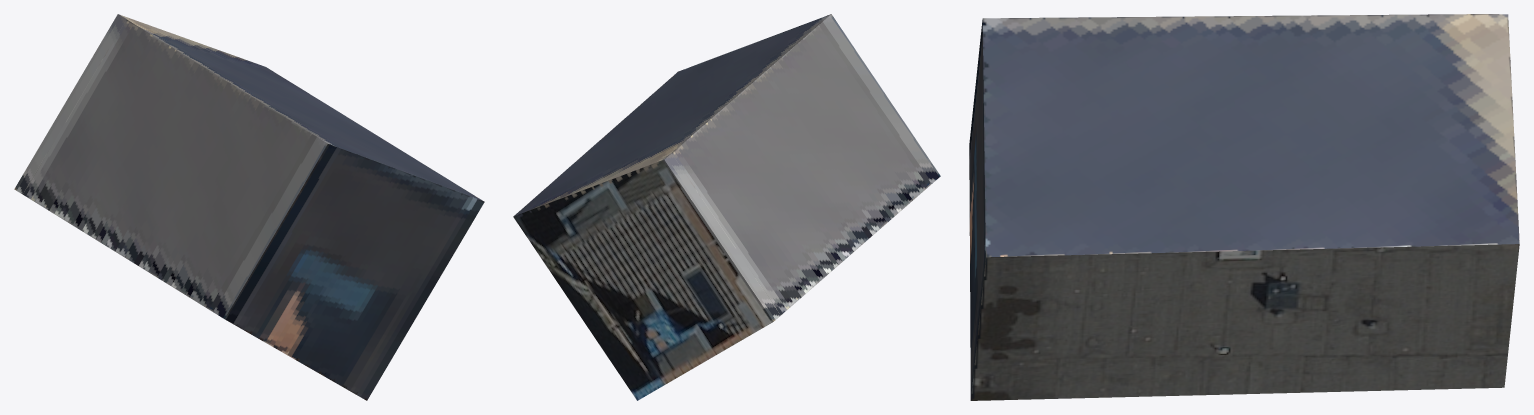
The picture shows the model from 3 angles, left to right: view 1: azimuth 30°, elevation 25°; view 2: azimuth 150°, elevation 25°; view 3: azimuth 270°, elevation 25°; orthographic projection. The views are drawn at different scales.
Parts seen in each view (by area): view 1: BAG_0599100000670795 (×2); view 2: BAG_0599100000670795 (×2); view 3: BAG_0599100000670795 (×2).
Part boxes in pixels (x1,y1,x2,y2): BAG_0599100000670795 (×2): (14, 14, 484, 400); BAG_0599100000670795 (×2): (513, 14, 940, 400); BAG_0599100000670795 (×2): (969, 14, 1519, 400).
Bounding box in the file's own units: 9.59 × 8.5 × 11.71.
Materials: 1 (1 with a texture image).
